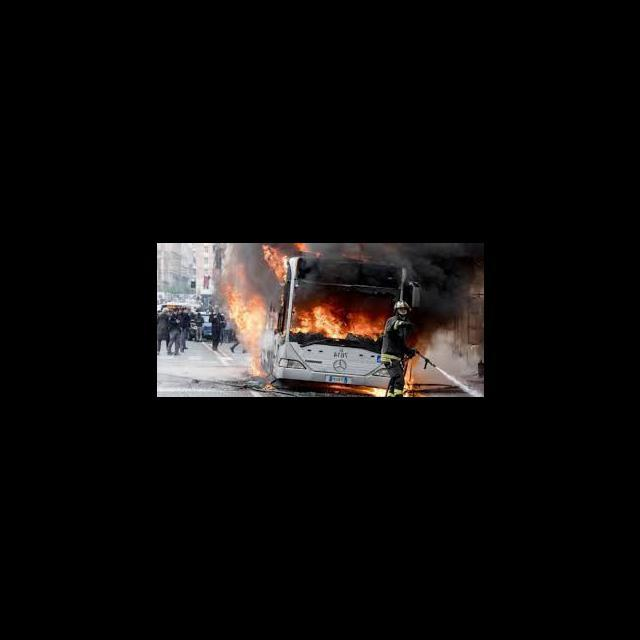Fire: (220, 271, 267, 377), (288, 296, 389, 342), (400, 341, 424, 396), (260, 244, 286, 284), (323, 384, 385, 396), (296, 243, 310, 252)
Smoke: (412, 246, 482, 316), (321, 244, 409, 258), (220, 244, 259, 271), (434, 336, 466, 364)
